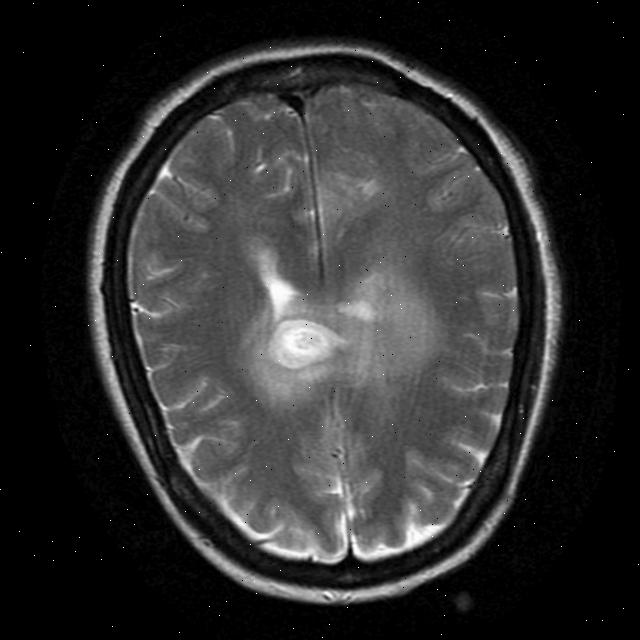tumor: (266, 301, 358, 379)
